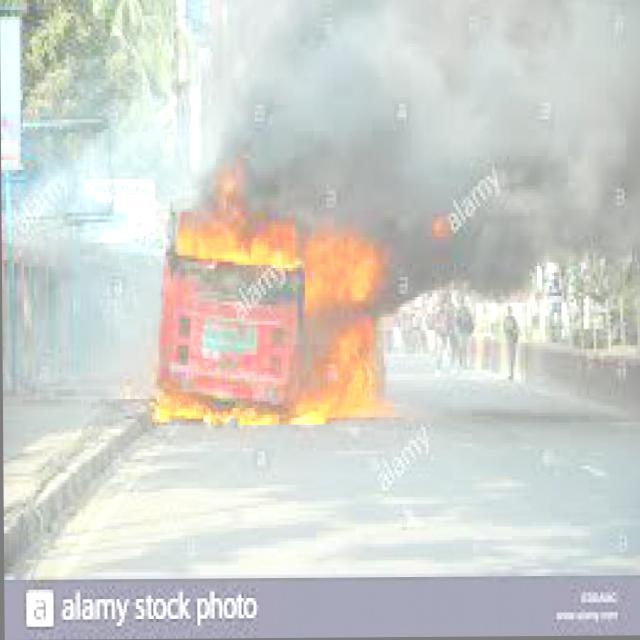Fire: (152, 168, 396, 422)
